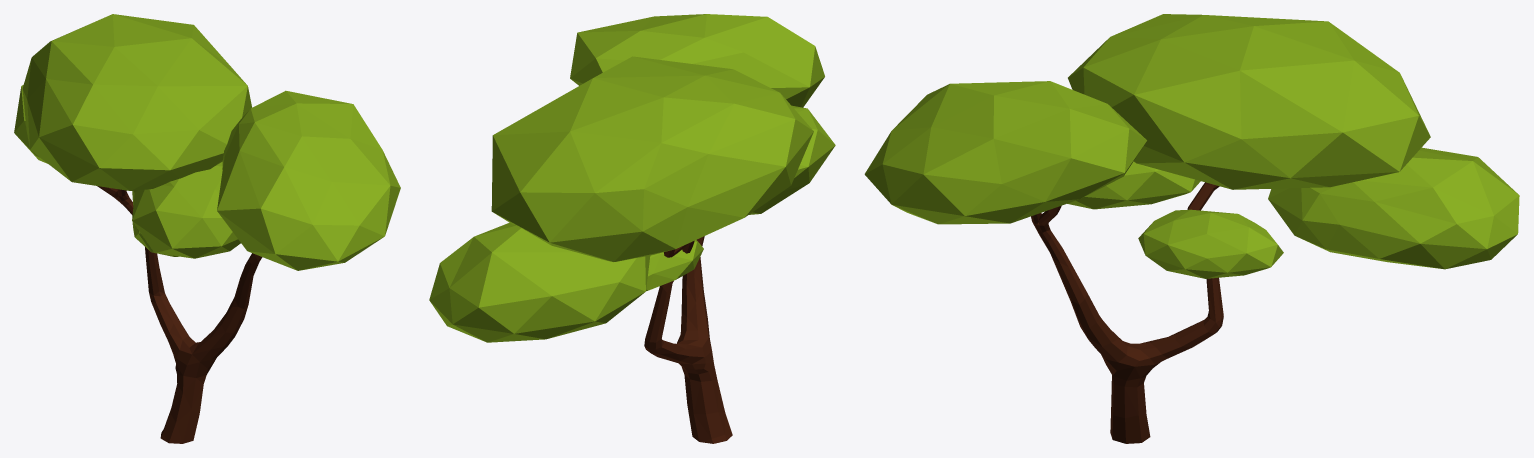
File: acacia_3.glb
3 renders of one model, left to right at view 1: azimuth 30°, elevation 25°; view 2: azimuth 150°, elevation 25°; view 3: azimuth 270°, elevation 25°, orthographic. The views are drawn at different scales.
Parts seen in each view (by area): view 1: Plane; view 2: Plane; view 3: Plane.
Part boxes in pixels (x1=…): Plane: x1=14, y1=14, x2=400, y2=443; Plane: x1=429, y1=14, x2=835, y2=443; Plane: x1=864, y1=14, x2=1519, y2=443.
Bounding box in the file's own units: 5.36 × 6.93 × 10.17.
